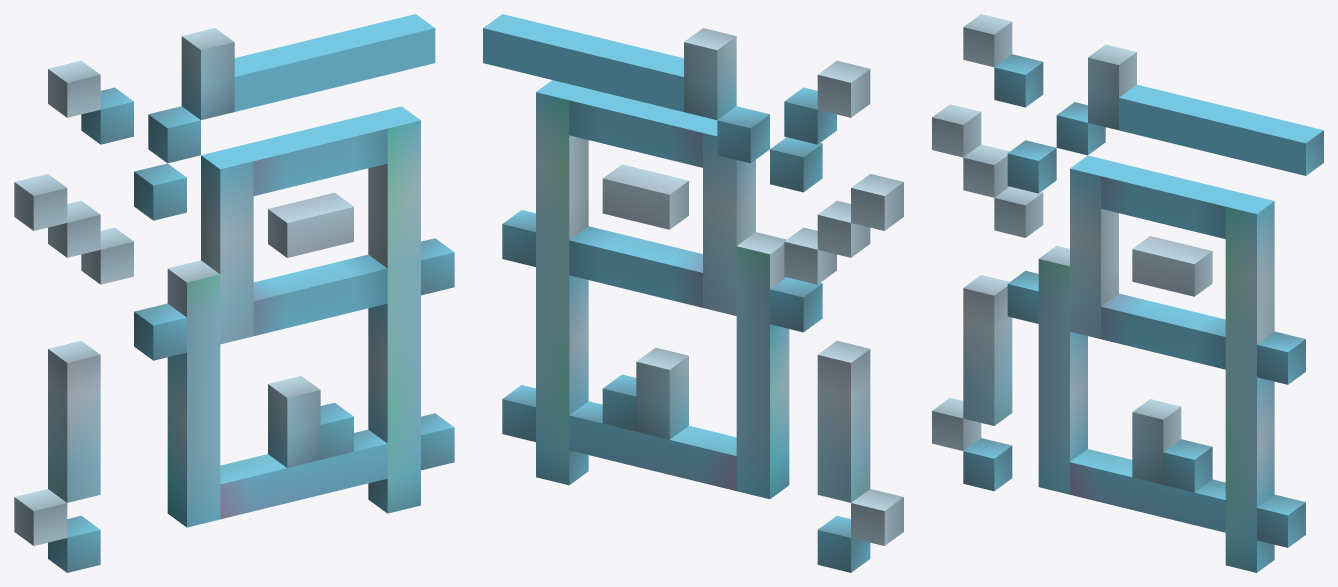
File: BillboardModule_ChineseSymbol_AD_00.fbx
The picture shows the model from 3 angles, left to right: view 1: azimuth 30°, elevation 25°; view 2: azimuth 150°, elevation 25°; view 3: azimuth 330°, elevation 25°; orthographic projection. The views are drawn at different scales.
Parts seen in each view (by area): view 1: BillboardModule_ChineseSymbol_AD_00; view 2: BillboardModule_ChineseSymbol_AD_00; view 3: BillboardModule_ChineseSymbol_AD_00.
Part boxes in pixels (x1,y1,x2,y2): BillboardModule_ChineseSymbol_AD_00: (14, 14, 454, 572); BillboardModule_ChineseSymbol_AD_00: (483, 14, 903, 572); BillboardModule_ChineseSymbol_AD_00: (932, 14, 1323, 572).
Size of the model in its own units: 60 by 70 by 10.
